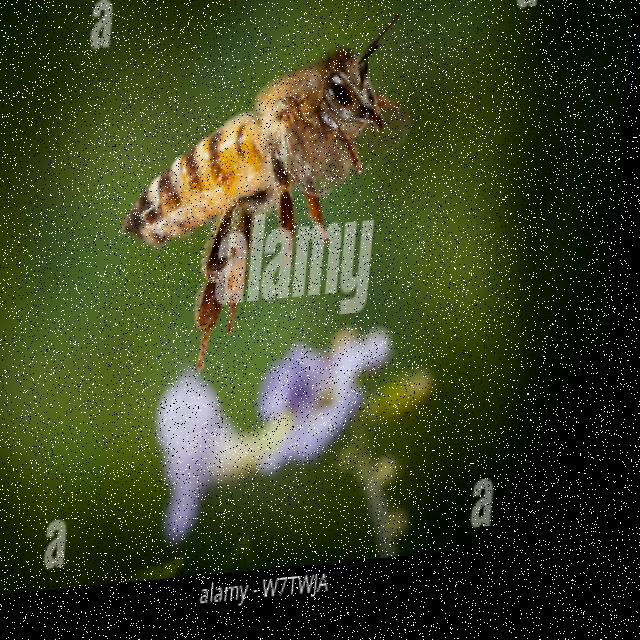Apis-mellifera-scutellata: (104, 43, 451, 364)
